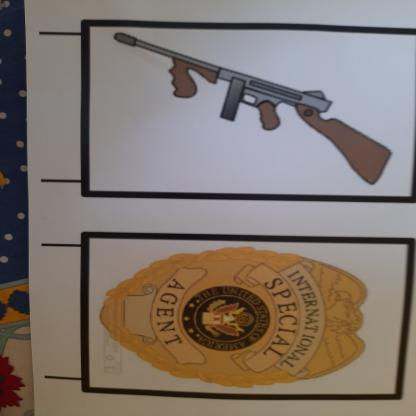Bootlegger: (106, 24, 406, 201)
G-man: (90, 246, 395, 396)
